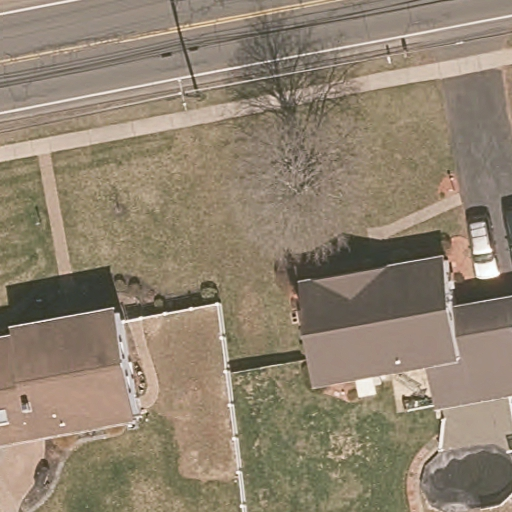DT: (174, 77, 190, 111)
